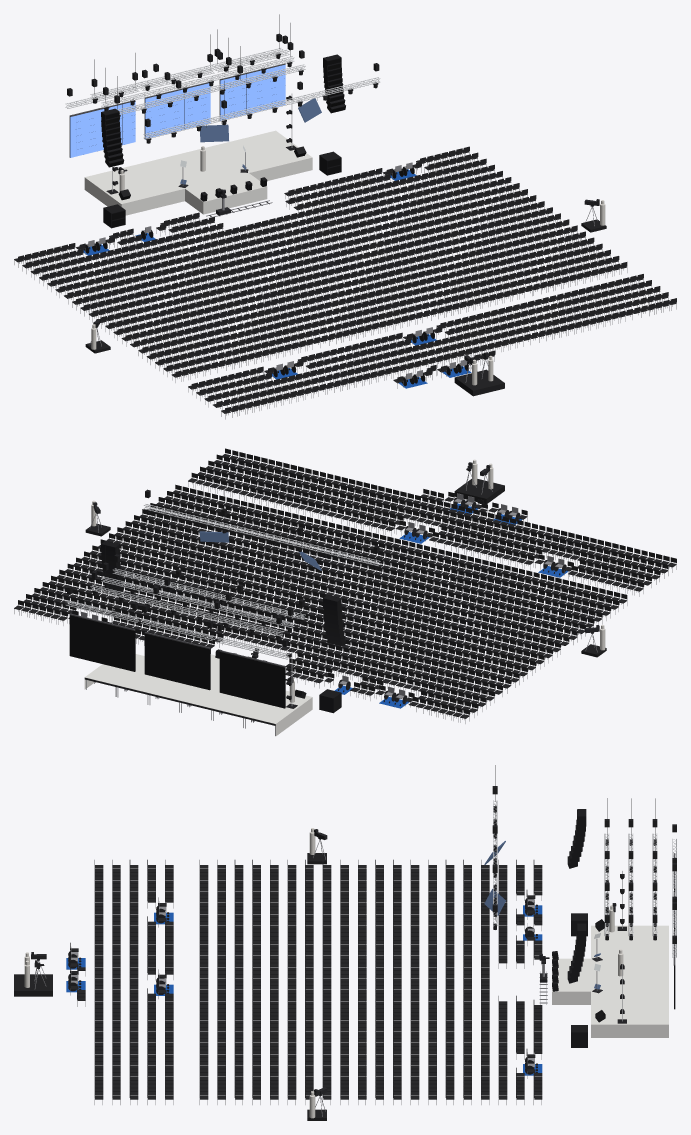
The model's file is multi-screen.glb.
3 renders of one model, top to bottom at view 1: azimuth 30°, elevation 25°; view 2: azimuth 150°, elevation 25°; view 3: azimuth 270°, elevation 25°, orthographic. The views are drawn at different scales.
Parts seen in each view (by area): view 1: FASCIA.MAIN.FRONT, FASCIA.THRUST.FRONT, BC.PLATFORM.FOH, FASCIA.MAIN.FRONT.1; view 2: BC.PLATFORM.FOH, FASCIA.MAIN.LEFT.2; view 3: FASCIA.MAIN.RIGHT.3, BC.PLATFORM.FOH, FASCIA.THRUST.RIGHT.2.
Part boxes in pixels (x1,y1,x2,y2): FASCIA.MAIN.FRONT: (121, 188, 184, 215); FASCIA.THRUST.FRONT: (203, 186, 267, 214); BC.PLATFORM.FOH: (454, 369, 504, 396); FASCIA.MAIN.FRONT.1: (249, 157, 312, 180); BC.PLATFORM.FOH: (454, 479, 504, 503); FASCIA.MAIN.LEFT.2: (275, 697, 312, 736); FASCIA.MAIN.RIGHT.3: (591, 1024, 668, 1037); BC.PLATFORM.FOH: (14, 974, 52, 996); FASCIA.THRUST.RIGHT.2: (552, 991, 590, 1004).
Size of the model in its own units: 39.31 by 11.34 by 41.47.
